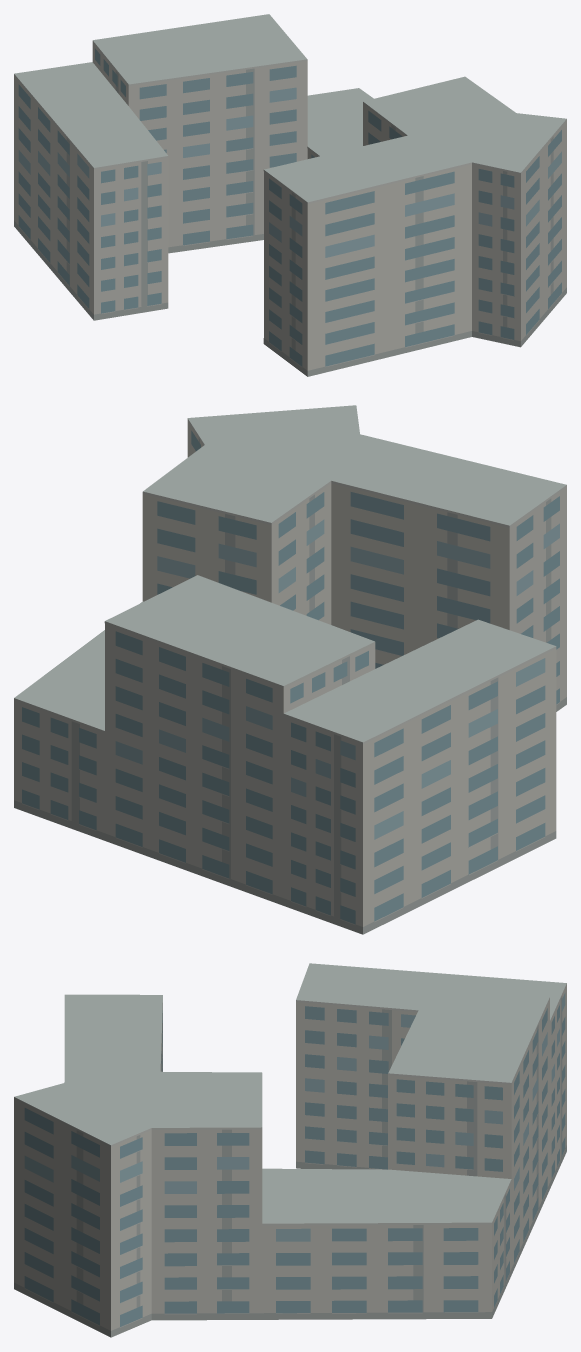
File: residential-8c4fbec9-cf04-401f-a3fd-613e4fa1a015.glb
3 renders of one model, top to bottom at view 1: azimuth 30°, elevation 25°; view 2: azimuth 150°, elevation 25°; view 3: azimuth 270°, elevation 25°, orthographic. The views are drawn at different scales.
Visible parts, largest first — view 1: residential-8c4fbec9-cf04-401f-a3fd-613e4fa1a015.tmp; view 2: residential-8c4fbec9-cf04-401f-a3fd-613e4fa1a015.tmp; view 3: residential-8c4fbec9-cf04-401f-a3fd-613e4fa1a015.tmp.
Boxes of the visible parts, x1,y1,x2,y2 form: residential-8c4fbec9-cf04-401f-a3fd-613e4fa1a015.tmp: (14,14,566,376); residential-8c4fbec9-cf04-401f-a3fd-613e4fa1a015.tmp: (14,405,566,934); residential-8c4fbec9-cf04-401f-a3fd-613e4fa1a015.tmp: (14,963,566,1337).
Bounding box in the file's own units: 56.05 × 24.4 × 63.56.
